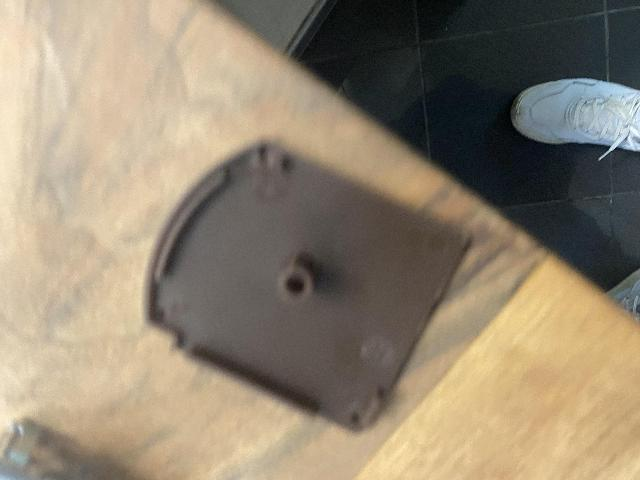Plastik: (144, 140, 471, 432)
